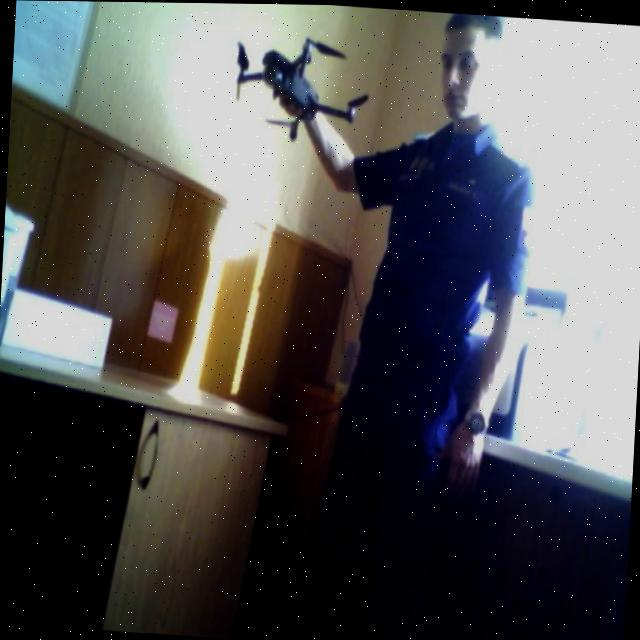drone: (220, 25, 378, 155)
